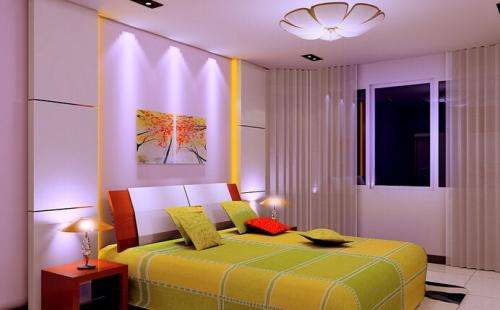床: (98, 235, 438, 308)
枕头: (164, 208, 223, 251), (228, 199, 288, 239), (303, 229, 346, 245)
灯: (276, 1, 385, 45), (63, 213, 112, 271), (259, 194, 288, 220)
